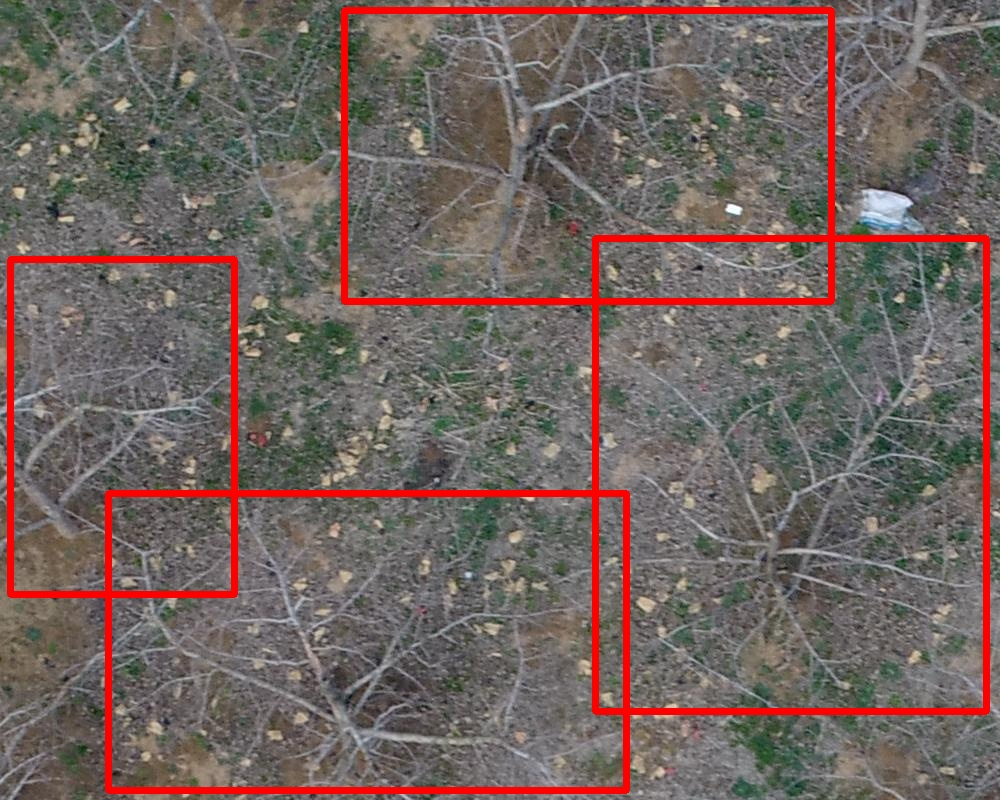apple: (595, 238, 986, 711), (108, 493, 626, 790), (344, 10, 831, 301), (10, 259, 234, 594)
